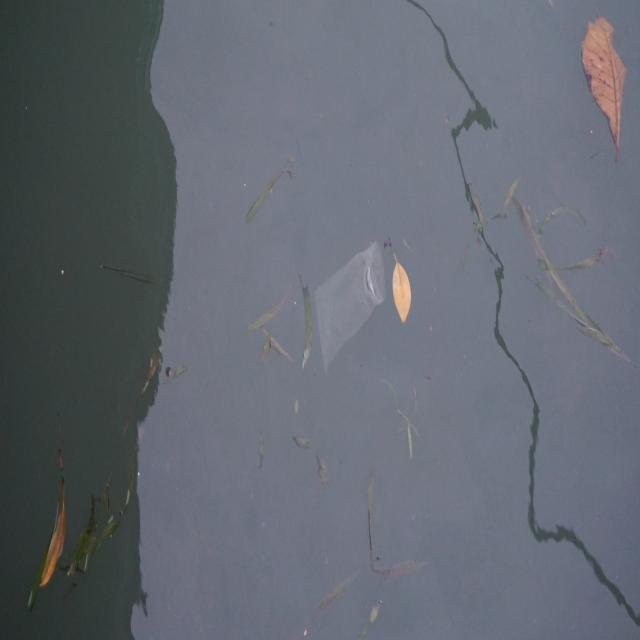Kantong Plastik: (315, 243, 388, 372)
